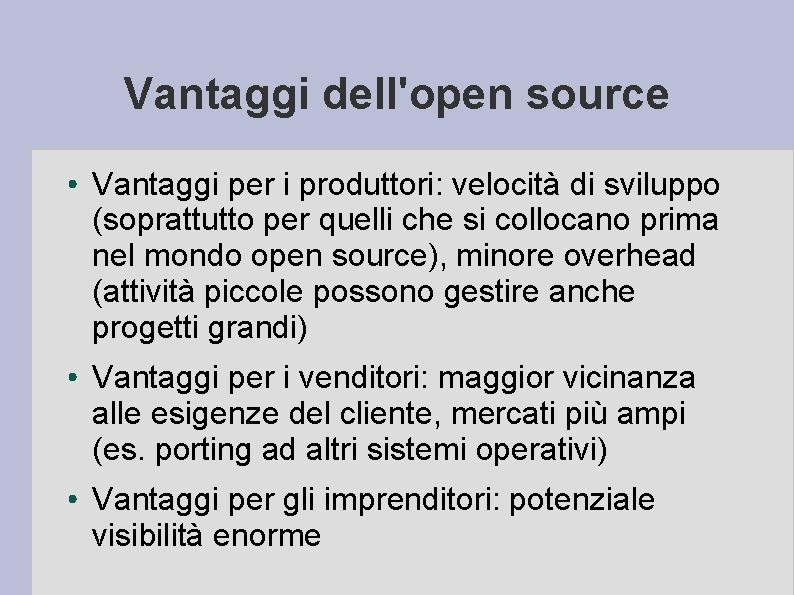paragraph: (58, 155, 751, 568)
title: (121, 58, 676, 128)
